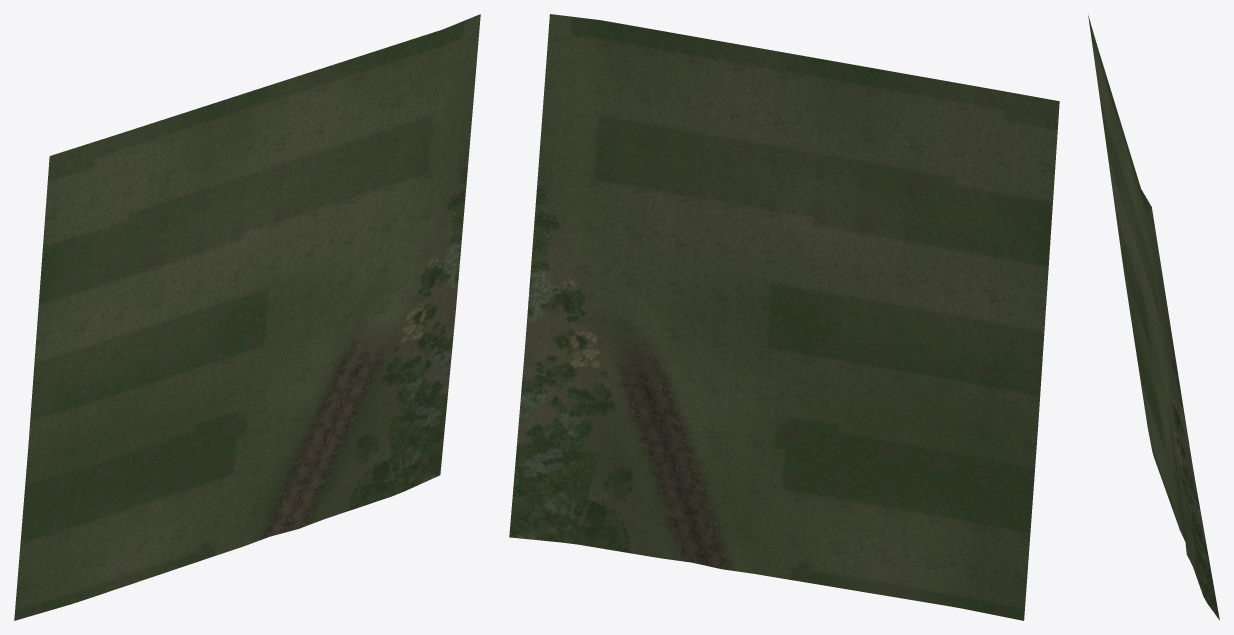
The model's file is terrain_core_04_03.obj.
The picture shows the model from 3 angles, left to right: view 1: azimuth 30°, elevation 25°; view 2: azimuth 150°, elevation 25°; view 3: azimuth 270°, elevation 25°; orthographic projection. The views are drawn at different scales.
Parts seen in each view (by area): view 1: terrain_core_04_03; view 2: terrain_core_04_03; view 3: terrain_core_04_03.
Boxes of the visible parts, left/top/right/bottom form: terrain_core_04_03: left=14, top=14, right=480, bottom=620; terrain_core_04_03: left=509, top=14, right=1059, bottom=620; terrain_core_04_03: left=1088, top=14, right=1219, bottom=620.
Bounding box in the file's own units: 32 × 32 × 9.24.
Materials: 1 (1 with a texture image).
